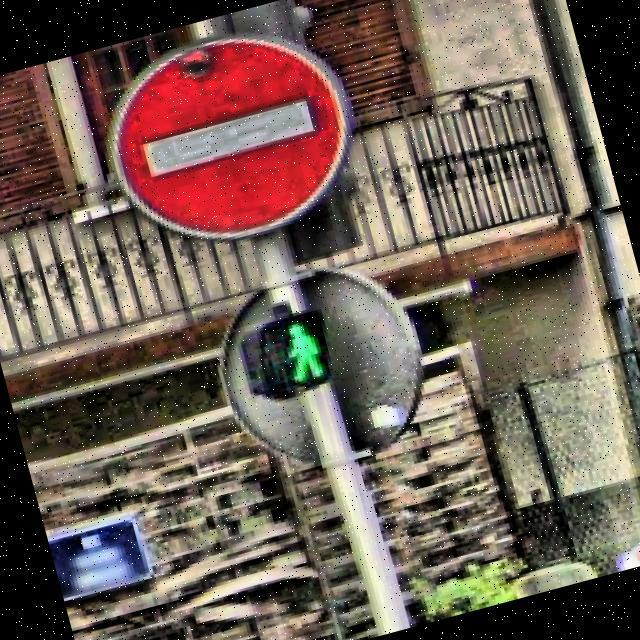green_light: (270, 313, 326, 384)
